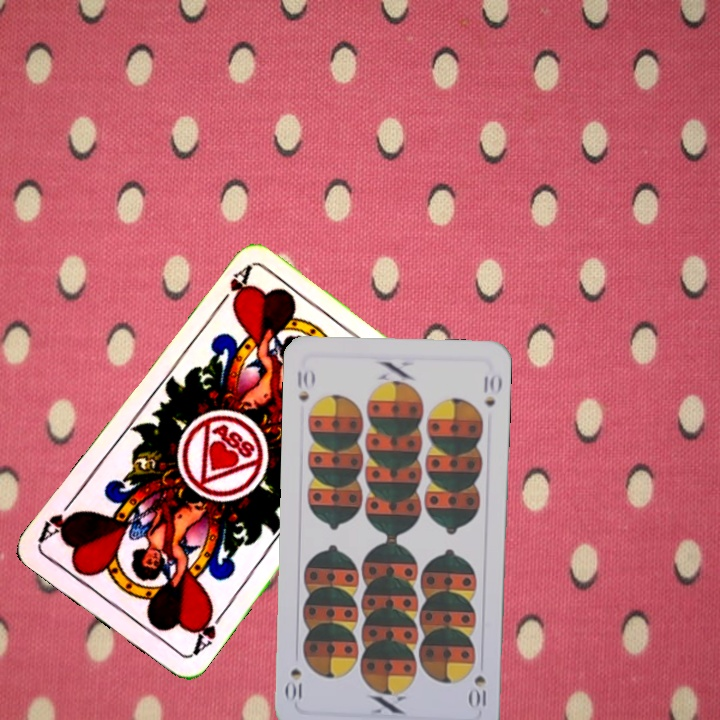HA: (187, 601, 228, 658), (211, 262, 254, 313)
S10: (293, 365, 317, 403), (467, 671, 489, 709)
